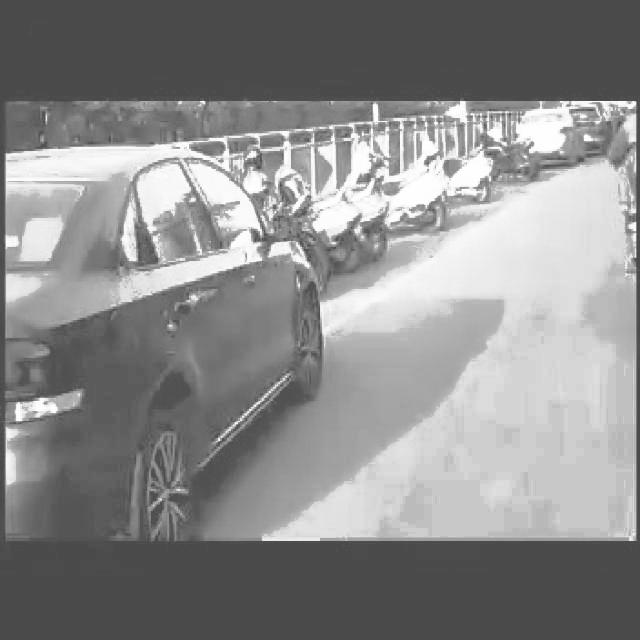Car: (2, 133, 373, 537), (517, 105, 606, 167)
